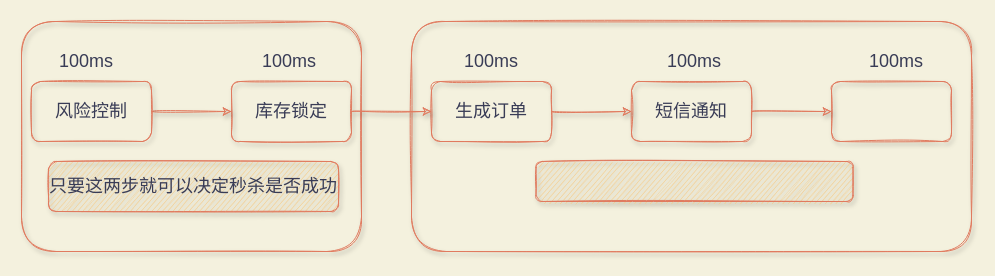
Image size: 995x276. Some labels were removed from this diagram. The centre of each missing label's shape, as x and y in pixels:
更新统计数据: (x=892, y=112)
这三步不一定要在秒杀请求中进行处理: (x=695, y=182)
